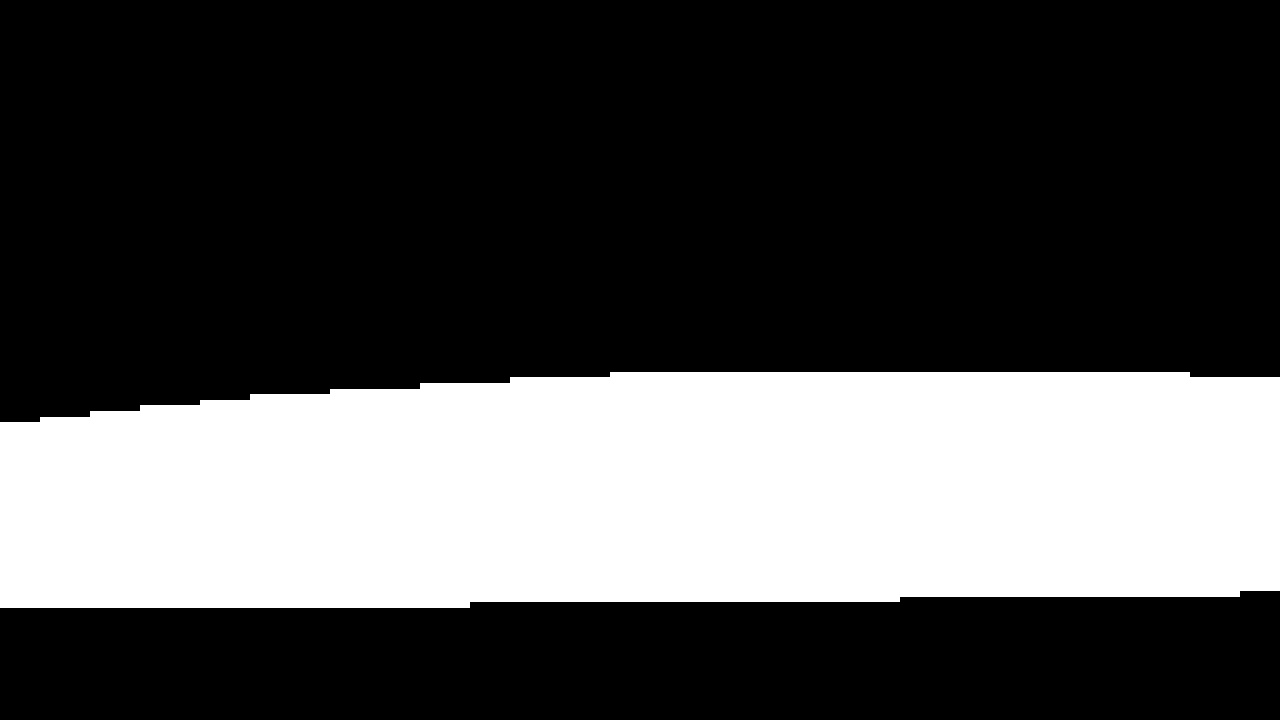Turbine: (11, 326, 1258, 638)
